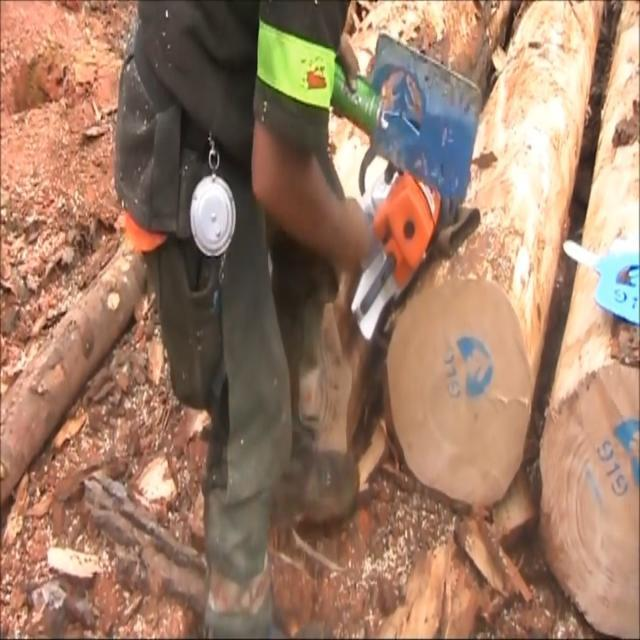Chainsaw: (343, 130, 527, 350)
